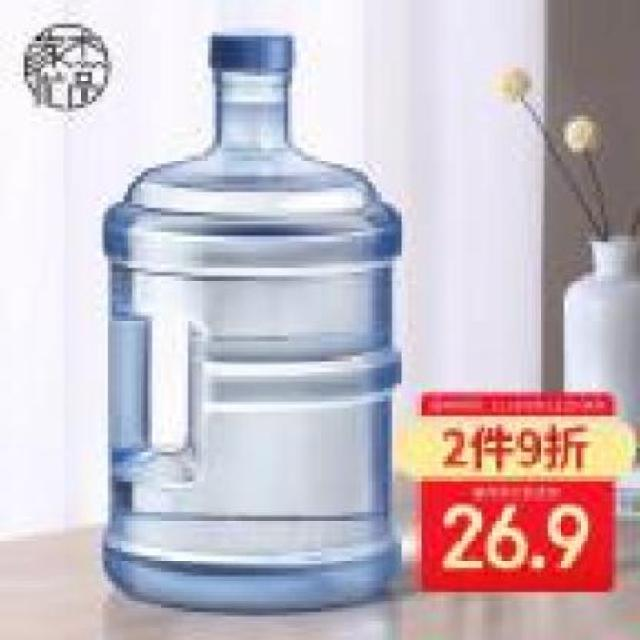coolerbottle: (94, 28, 408, 618)
